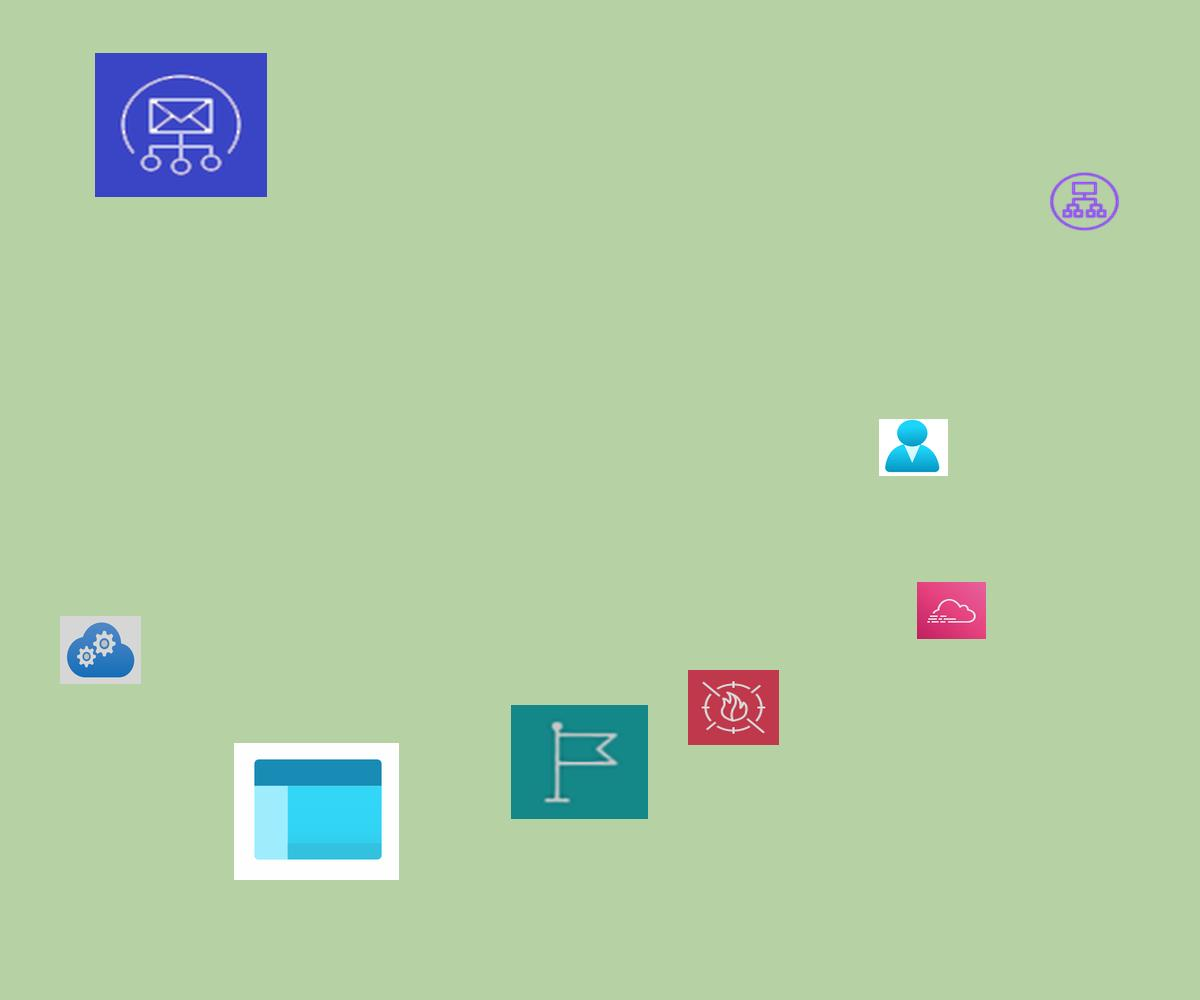AWS-CloudTrail: (917, 582, 986, 639)
AWS-Region: (511, 705, 648, 819)
AWS-Res_Elastic-Load-Balancing_Application-Load-Balancer: (1047, 170, 1122, 233)
AWS-Simple-Email-Service: (95, 53, 267, 197)
AWS-WAF: (688, 670, 779, 745)
Azure_cloud_services: (60, 616, 141, 684)
Azure_management-portal: (234, 743, 399, 880)
Azure_users: (879, 419, 948, 476)
